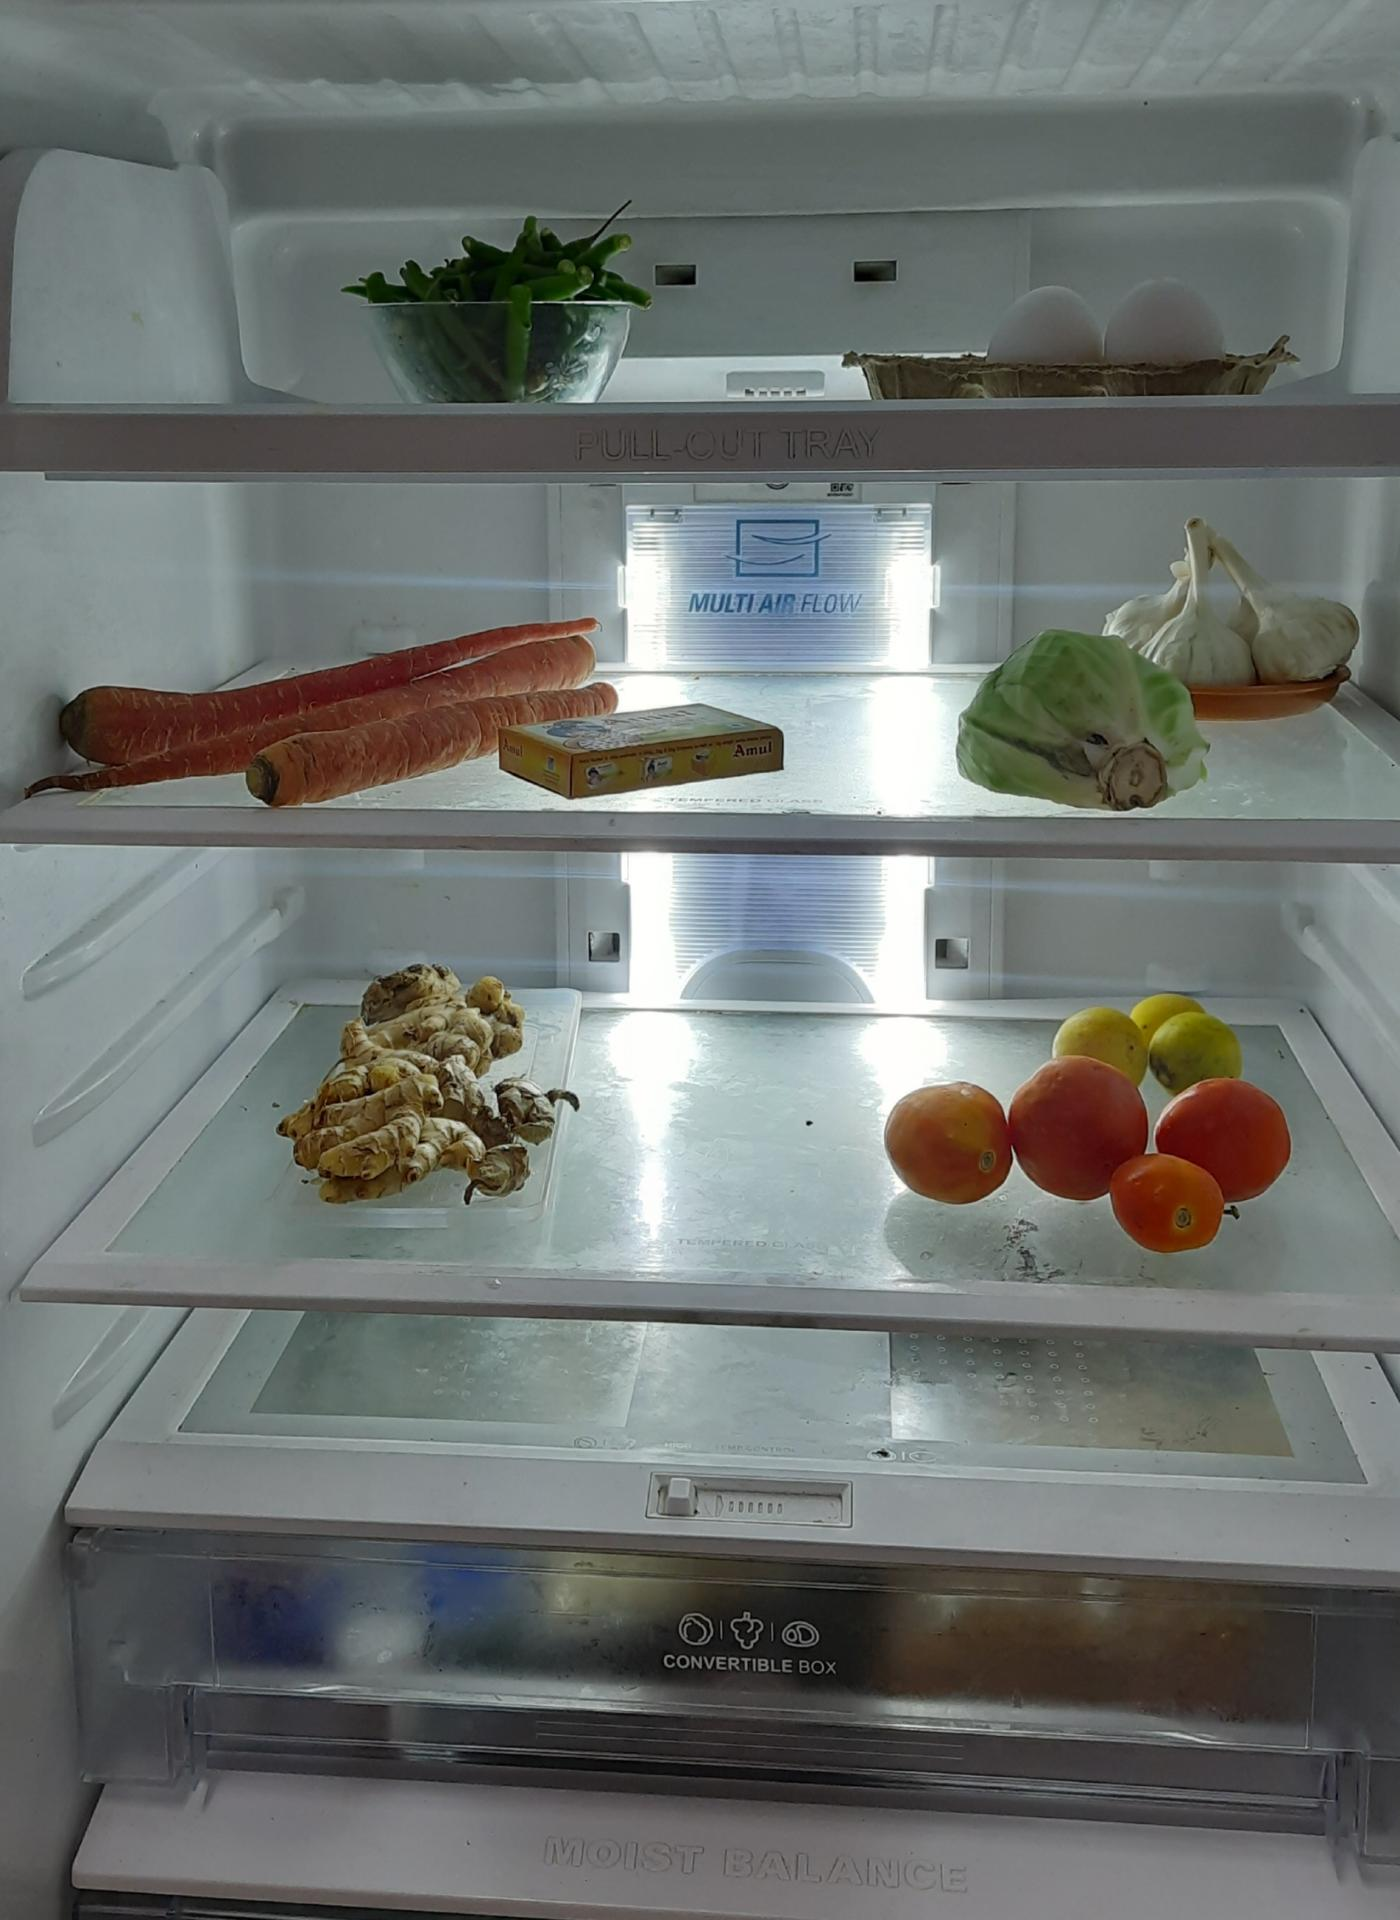butter: (491, 695, 778, 803)
cabbage: (957, 623, 1205, 802)
carrots: (31, 622, 608, 824)
chillies: (337, 194, 655, 391)
egg: (984, 282, 1226, 367)
garlic: (1121, 513, 1351, 686)
ginger: (271, 951, 558, 1201)
lemon: (1054, 982, 1246, 1096)
tomato: (880, 1035, 1291, 1239)
